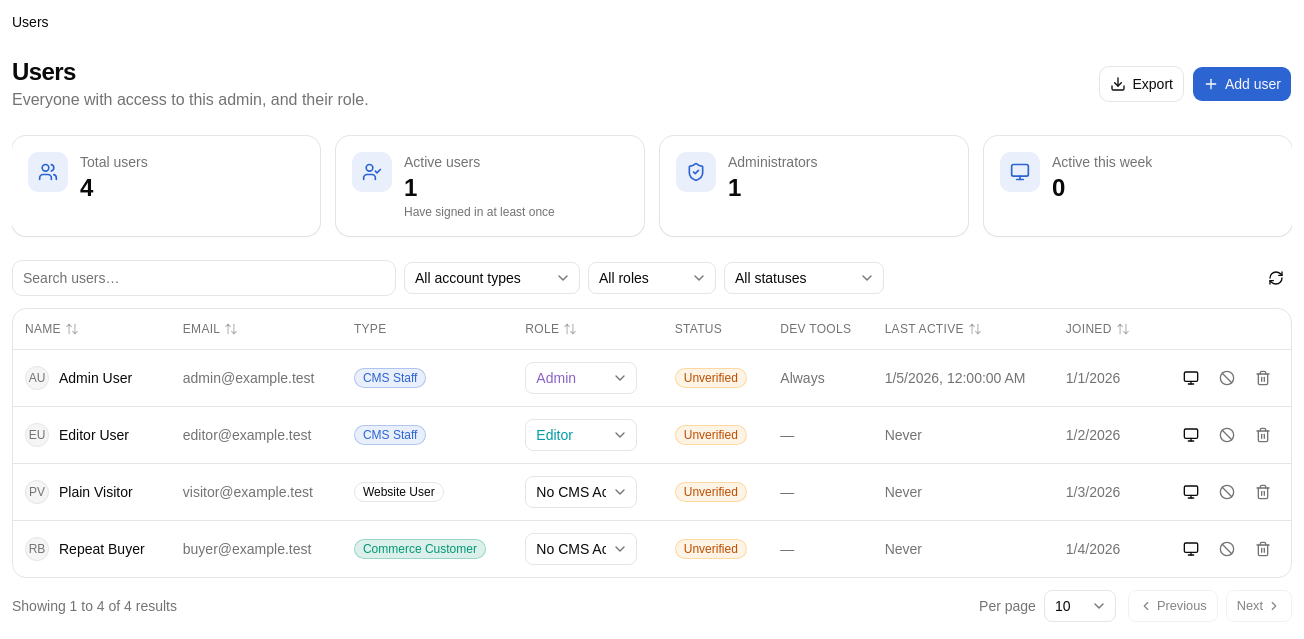
it: UsersPage › classifies and filters accounts by type: CMS staff, Commerce customer, and website user
Expected: the text "Repeat Buyer" is shown, [59,538,145,558]
Expected: the text "CMS Staff" is shown 2 times, [354,368,426,388]; [354,424,426,444]
Click the dropdown named "Filter by account type". click: (492, 278)
box: [404,262,580,294]
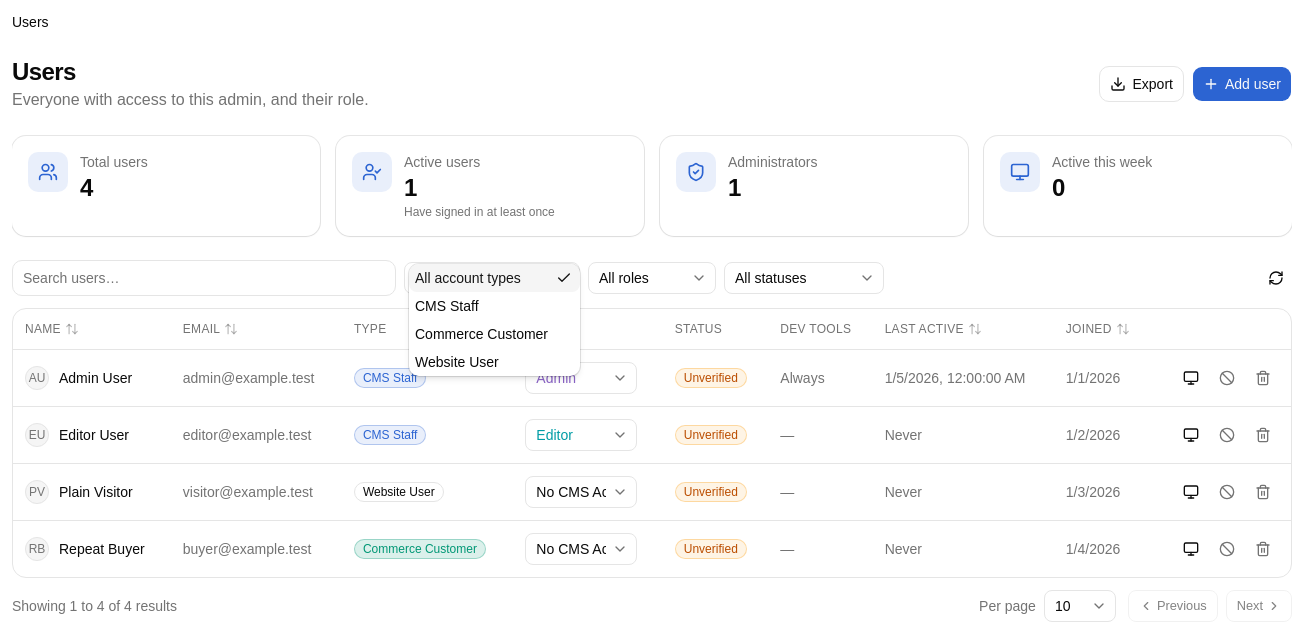
Click the option "Commerce Customer". click: (482, 334)
box: [415,326,548,342]
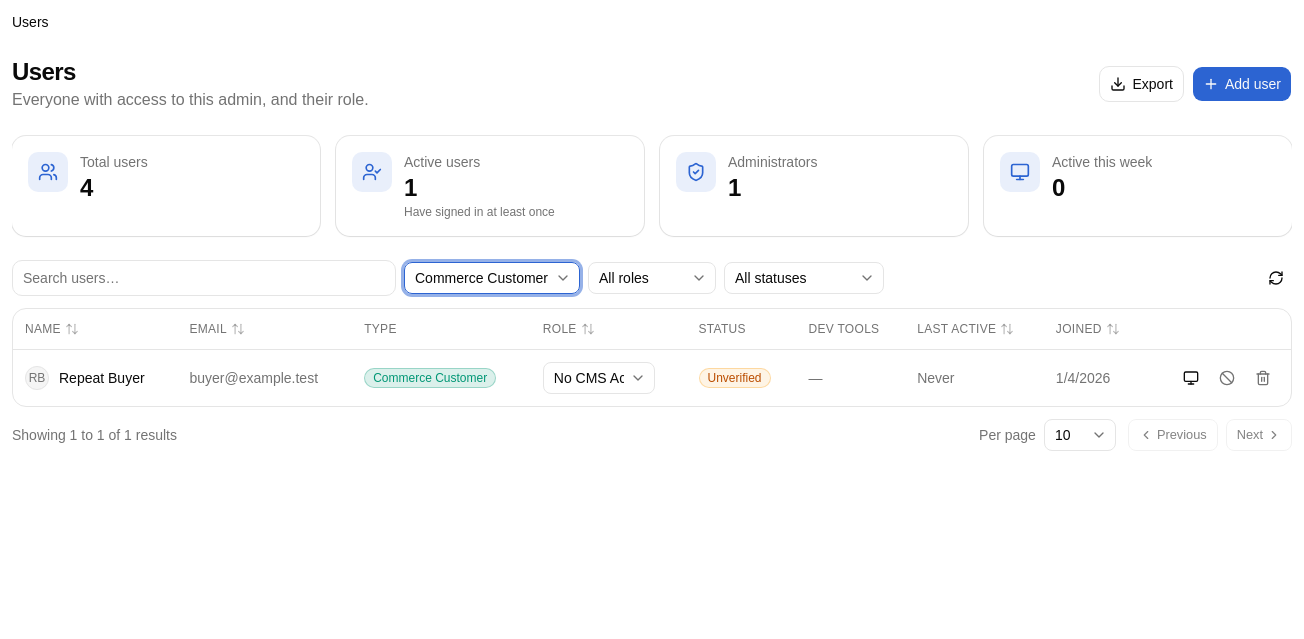
Expected: the text "Plain Visitor" is gone
Expected: the text "Repeat Buyer" is shown, [59,368,145,388]
Expected: the text "Admin User" is gone
